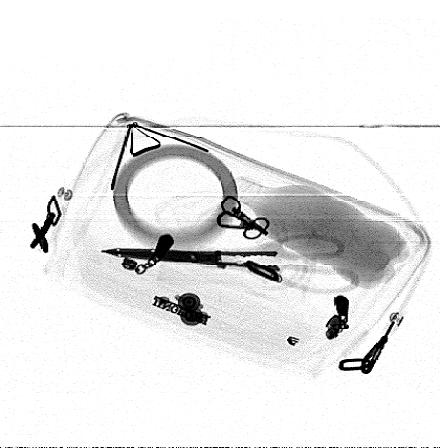Scissors: (98, 232, 361, 295)
